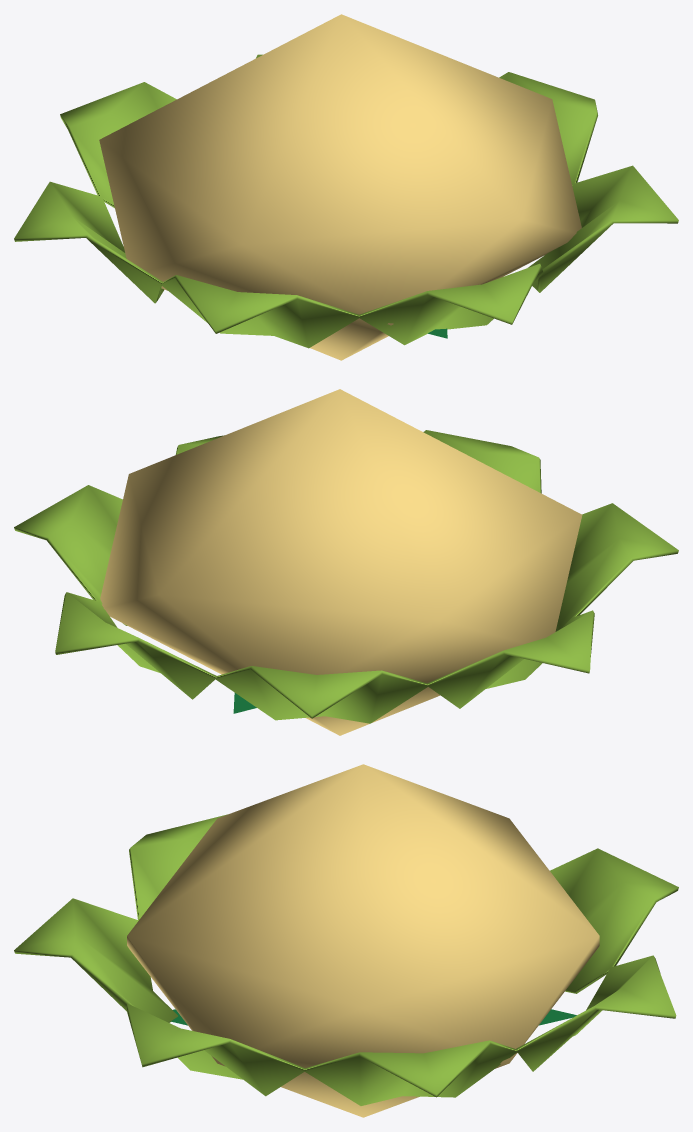
The model's file is cauliplant.glb.
The picture shows the model from 3 angles, top to bottom: view 1: azimuth 30°, elevation 25°; view 2: azimuth 150°, elevation 25°; view 3: azimuth 270°, elevation 25°; orthographic projection. The views are drawn at different scales.
Visible parts, largest first — view 1: CauliPlant; view 2: CauliPlant; view 3: CauliPlant.
Boxes of the visible parts, box(x1,y1,x2,y2) form: CauliPlant: box(14, 14, 678, 360); CauliPlant: box(14, 389, 678, 735); CauliPlant: box(14, 764, 678, 1117).
Size of the model in its own units: 1.73 by 0.9879 by 1.68.
Materials: 2 (2 with a texture image).
